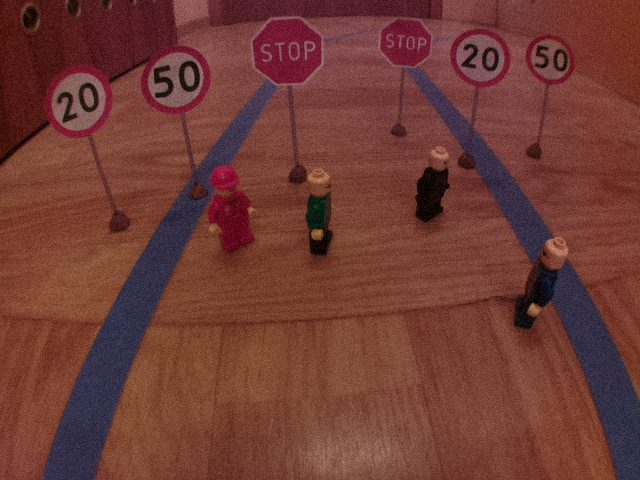LEGO_person: (509, 226, 573, 337), (201, 163, 263, 256), (301, 165, 339, 265), (411, 144, 454, 224)
ogr_20: (40, 64, 115, 138), (447, 25, 516, 91)
ogr_50: (137, 42, 215, 116), (523, 34, 578, 87)
stop: (248, 14, 328, 90), (375, 14, 437, 70)
